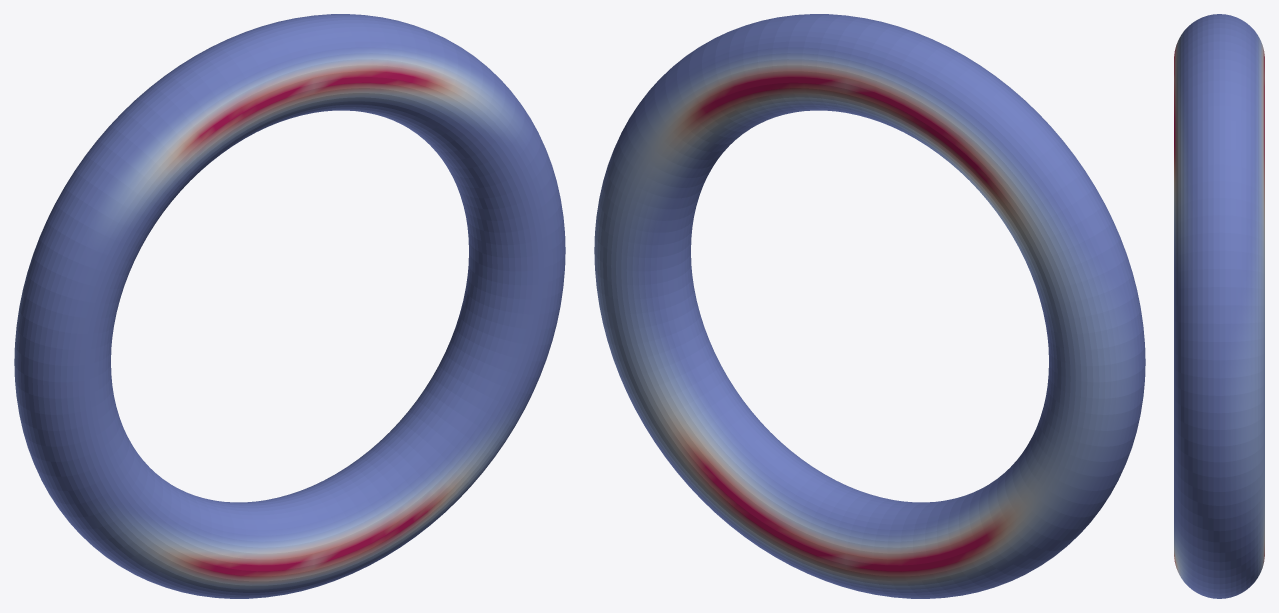
3 views of the same model, side by side, from view 1: azimuth 30°, elevation 25°; view 2: azimuth 150°, elevation 25°; view 3: azimuth 270°, elevation 25° (orthographic). The views are drawn at different scales.
Parts seen in each view (by area): view 1: world; view 2: world; view 3: world.
Boxes of the visible parts, x1,y1,x2,y2 form: world: (14,14,565,598); world: (594,14,1145,598); world: (1174,14,1264,598).
Bounding box in the file's own units: 19.73 × 19.73 × 3.06.
